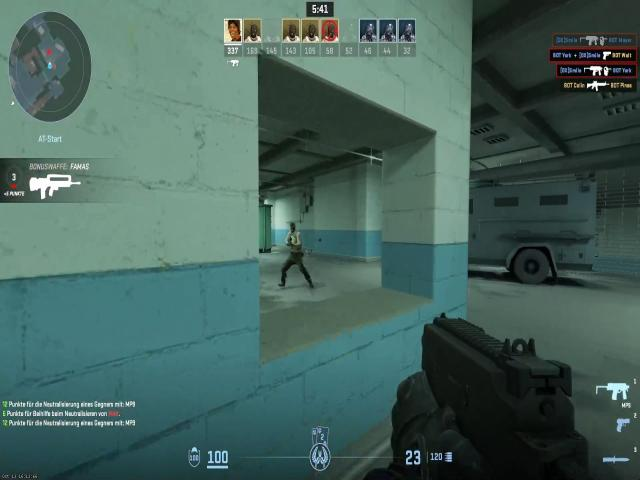T: (286, 220, 304, 261)
T-Head: (284, 219, 300, 235)
